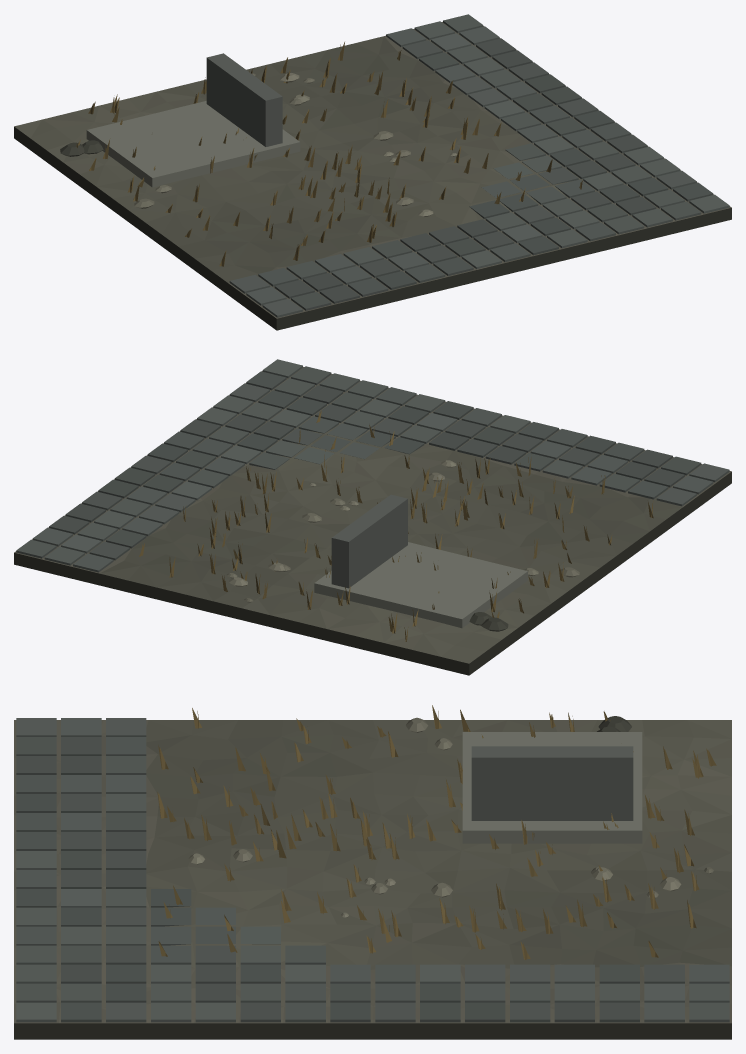
Rendered from CHUNK_ruined_monastery__refuge_records__00.glb.
The picture shows the model from 3 angles, top to bottom: view 1: azimuth 30°, elevation 25°; view 2: azimuth 150°, elevation 25°; view 3: azimuth 270°, elevation 25°; orthographic projection. The views are drawn at different scales.
Visible parts, largest first — view 1: CHUNK_ruined_monastery__refuge_records__00; view 2: CHUNK_ruined_monastery__refuge_records__00; view 3: CHUNK_ruined_monastery__refuge_records__00.
Boxes of the visible parts, x1,y1,x2,y2 form: CHUNK_ruined_monastery__refuge_records__00: (14,14,731,330); CHUNK_ruined_monastery__refuge_records__00: (14,359,731,675); CHUNK_ruined_monastery__refuge_records__00: (14,705,731,1039).
Size of the model in its own units: 8 by 1.16 by 8.
